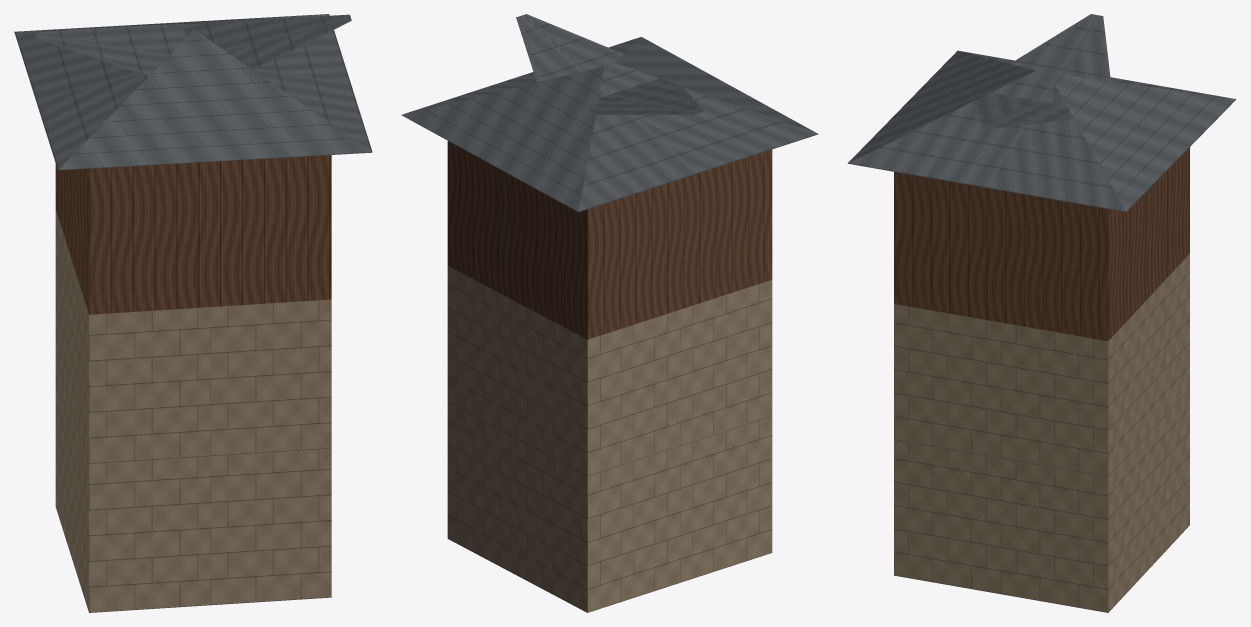
File: bld_c-36_11_752.gltf
3 renders of one model, left to right at view 1: azimuth 30°, elevation 25°; view 2: azimuth 150°, elevation 25°; view 3: azimuth 270°, elevation 25°, orthographic. The views are drawn at different scales.
Visible parts, largest first — view 1: bld_c-36_11_752; view 2: bld_c-36_11_752; view 3: bld_c-36_11_752.
Boxes of the visible parts, box(x1,y1,x2,y2) form: bld_c-36_11_752: box(14, 14, 372, 612); bld_c-36_11_752: box(401, 14, 818, 612); bld_c-36_11_752: box(847, 14, 1236, 612).
Bounding box in the file's own units: 5.79 × 8 × 5.9.
3 materials, 3 textured.
